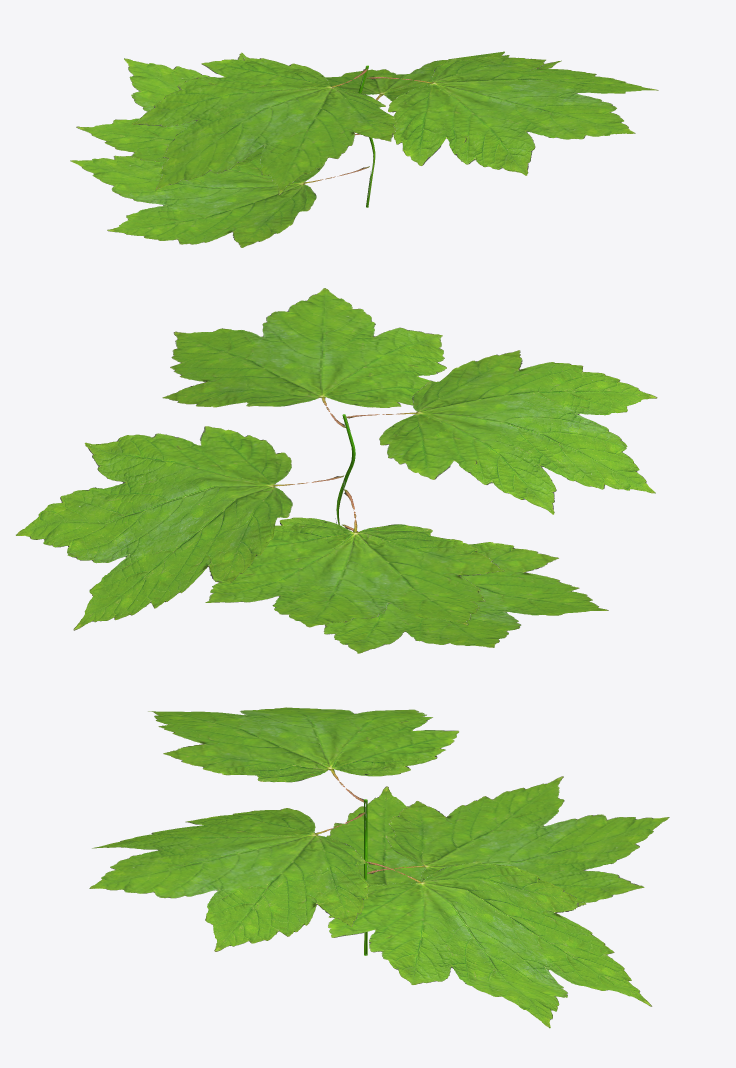
Rendered from green leaf.fbx.
3 views of the same model, one above another, from view 1: azimuth 30°, elevation 25°; view 2: azimuth 150°, elevation 25°; view 3: azimuth 270°, elevation 25° (orthographic). The views are drawn at different scales.
Visible parts, largest first — view 1: green_leaf1; view 2: green_leaf1; view 3: green_leaf1.
Boxes of the visible parts, box(x1,y1,x2,y2) form: green_leaf1: box(70, 51, 658, 247); green_leaf1: box(16, 288, 657, 653); green_leaf1: box(89, 707, 669, 1028).
Bounding box in the file's own units: 29.89 × 8.38 × 28.56.
2 materials, 2 textured.
